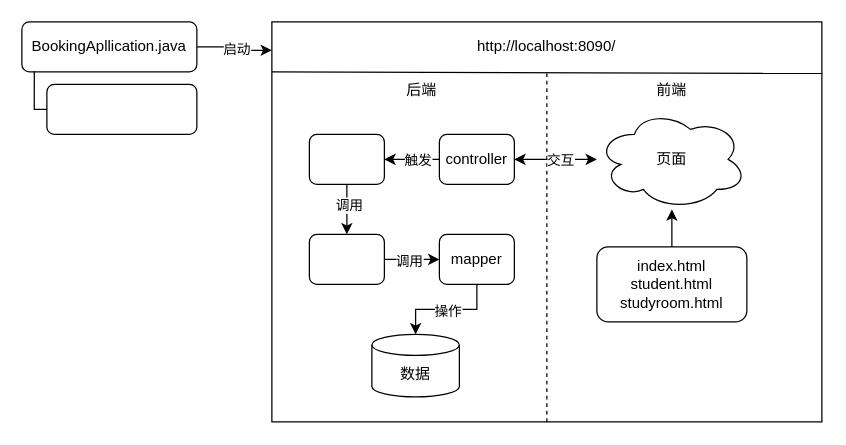
Image size: 846x445. Some labels were removed from this diagram. The box of each missing label's shape, as (x1, y1, x2, y2) in pixels:
business: (308, 133, 384, 184)
dao: (308, 233, 384, 284)
WebConfigurer.java: (46, 83, 197, 134)
